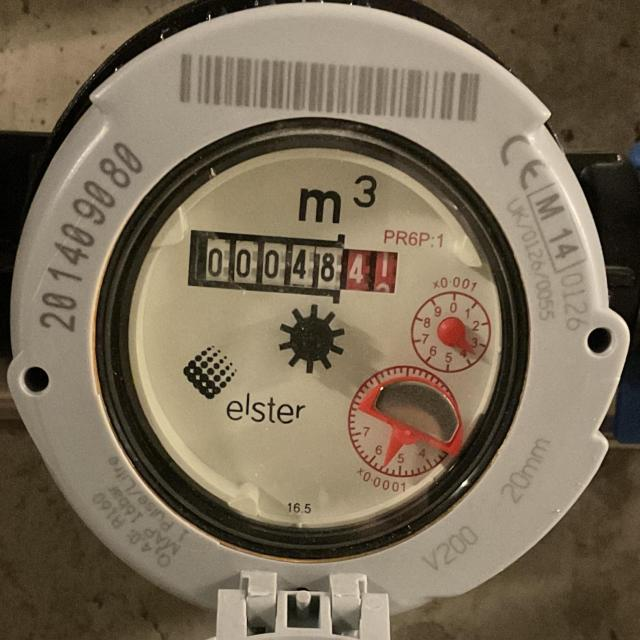gaz_meter: (126, 137, 506, 530)
indication: (188, 230, 399, 299)
